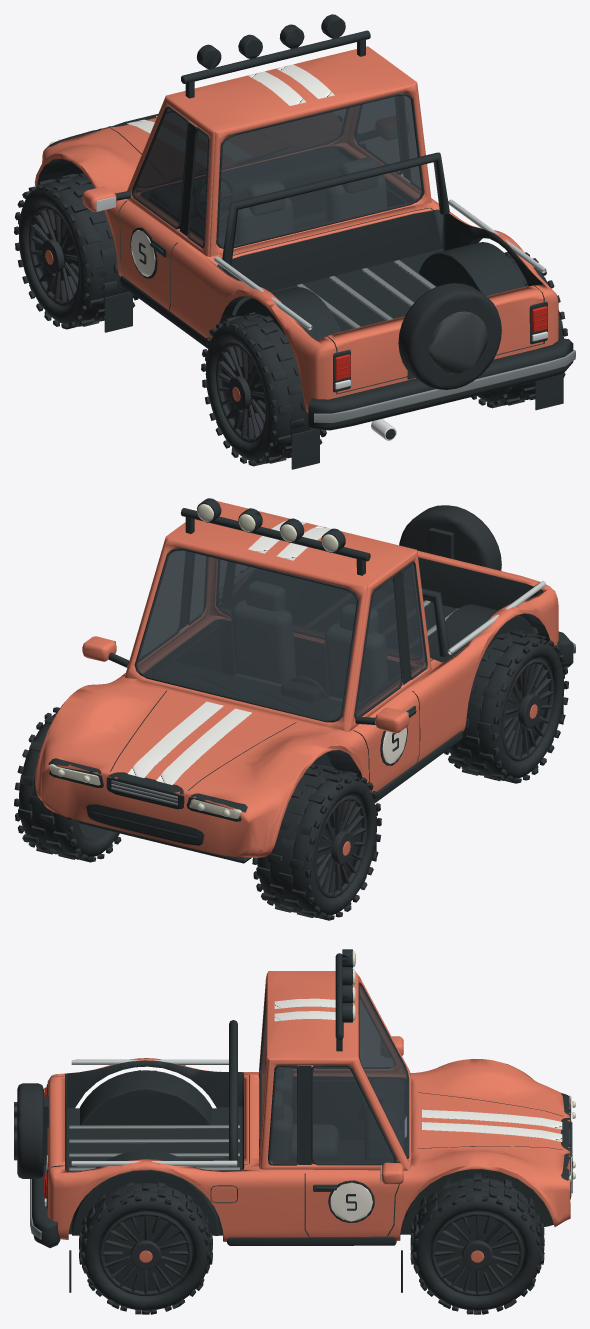
The model's file is tora_lod2.fbx.
The picture shows the model from 3 angles, top to bottom: view 1: azimuth 30°, elevation 25°; view 2: azimuth 150°, elevation 25°; view 3: azimuth 270°, elevation 25°; orthographic projection. The views are drawn at different scales.
Parts seen in each view (by area): view 1: Body, Wheel_RL_Mesh, Wheel_FL_Mesh, Wheel_RR_Mesh; view 2: Body, Wheel_FL_Mesh, Wheel_RL_Mesh, Wheel_FR_Mesh; view 3: Body, Wheel_FR_Mesh, Wheel_RR_Mesh.
Part boxes in pixels (x1,y1,x2,y2): Body: (34,14,575,469); Wheel_RL_Mesh: (201,312,326,466); Wheel_FL_Mesh: (14,172,138,329); Wheel_RR_Mesh: (471,252,567,408); Body: (34,498,575,863); Wheel_FL_Mesh: (252,764,381,920); Wheel_RL_Mesh: (444,629,568,783); Wheel_FR_Mesh: (14,707,121,862); Body: (14,949,575,1292); Wheel_FR_Mesh: (410,1173,544,1314); Wheel_RR_Mesh: (79,1182,212,1314).
Size of the model in its own units: 245 by 230 by 424.
